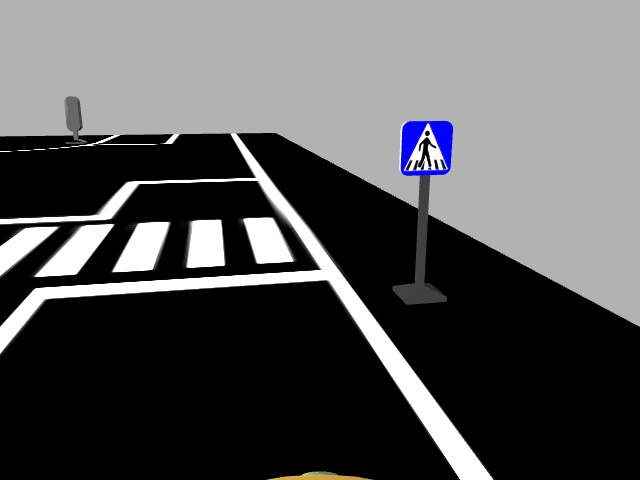Crosswalk: (399, 118, 451, 175)
